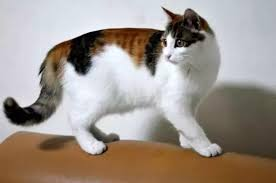cat: (152, 5, 221, 74)
